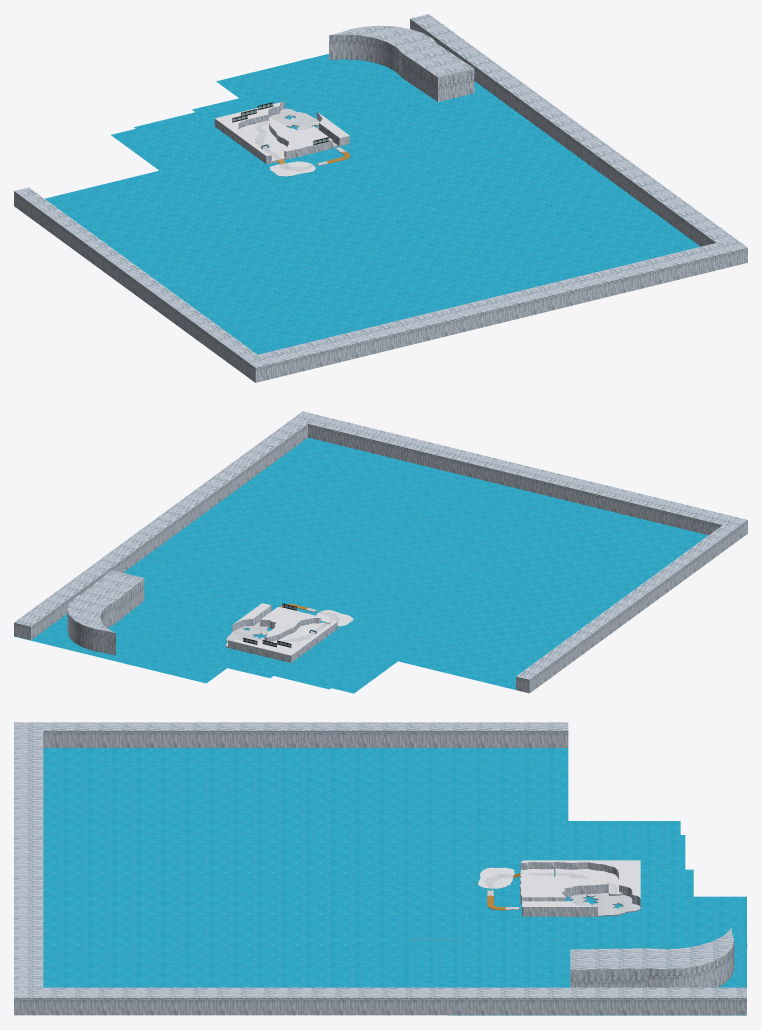
3 views of the same model, one above another, from view 1: azimuth 30°, elevation 25°; view 2: azimuth 150°, elevation 25°; view 3: azimuth 270°, elevation 25° (orthographic). The views are drawn at different scales.
Parts seen in each view (by area): view 1: iceland_Main-water, iceland_Main-Icewall, iceland_Main-OffroadSnow, iceland_Main-SnowRoad; view 2: iceland_Main-water, iceland_Main-Icewall, iceland_Main-OffroadSnow, iceland_Main-SnowRoad; view 3: iceland_Main-water, iceland_Main-Icewall, iceland_Main-OffroadSnow, iceland_Main-SnowRoad.
Boxes of the visible parts, <box> form: iceland_Main-water: <box>45,54,700,354</box>; iceland_Main-Icewall: <box>14,14,747,382</box>; iceland_Main-OffroadSnow: <box>215,102,349,176</box>; iceland_Main-SnowRoad: <box>254,108,345,171</box>; iceland_Main-water: <box>14,437,708,693</box>; iceland_Main-Icewall: <box>14,411,747,693</box>; iceland_Main-OffroadSnow: <box>230,603,353,655</box>; iceland_Main-SnowRoad: <box>225,608,339,646</box>; iceland_Main-water: <box>43,748,746,1015</box>; iceland_Main-Icewall: <box>14,722,746,1015</box>; iceland_Main-OffroadSnow: <box>478,860,640,906</box>; iceland_Main-SnowRoad: <box>484,873,640,915</box>.
Bounding box in the file's own units: 304074 × 14643 × 341906.
Materials: 15 (15 with a texture image).
